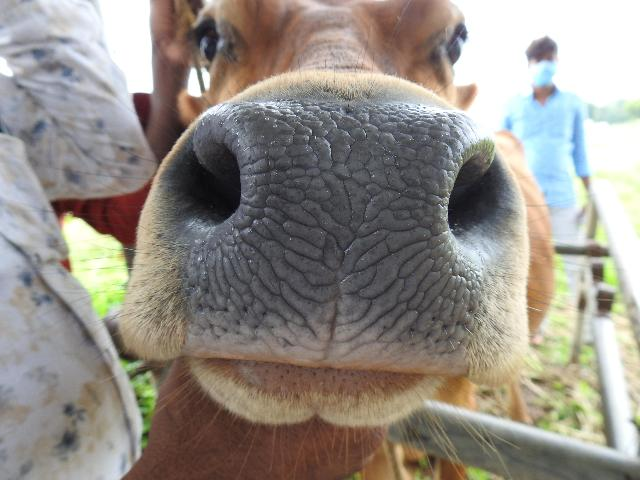Muzzle: (245, 104, 441, 350)
